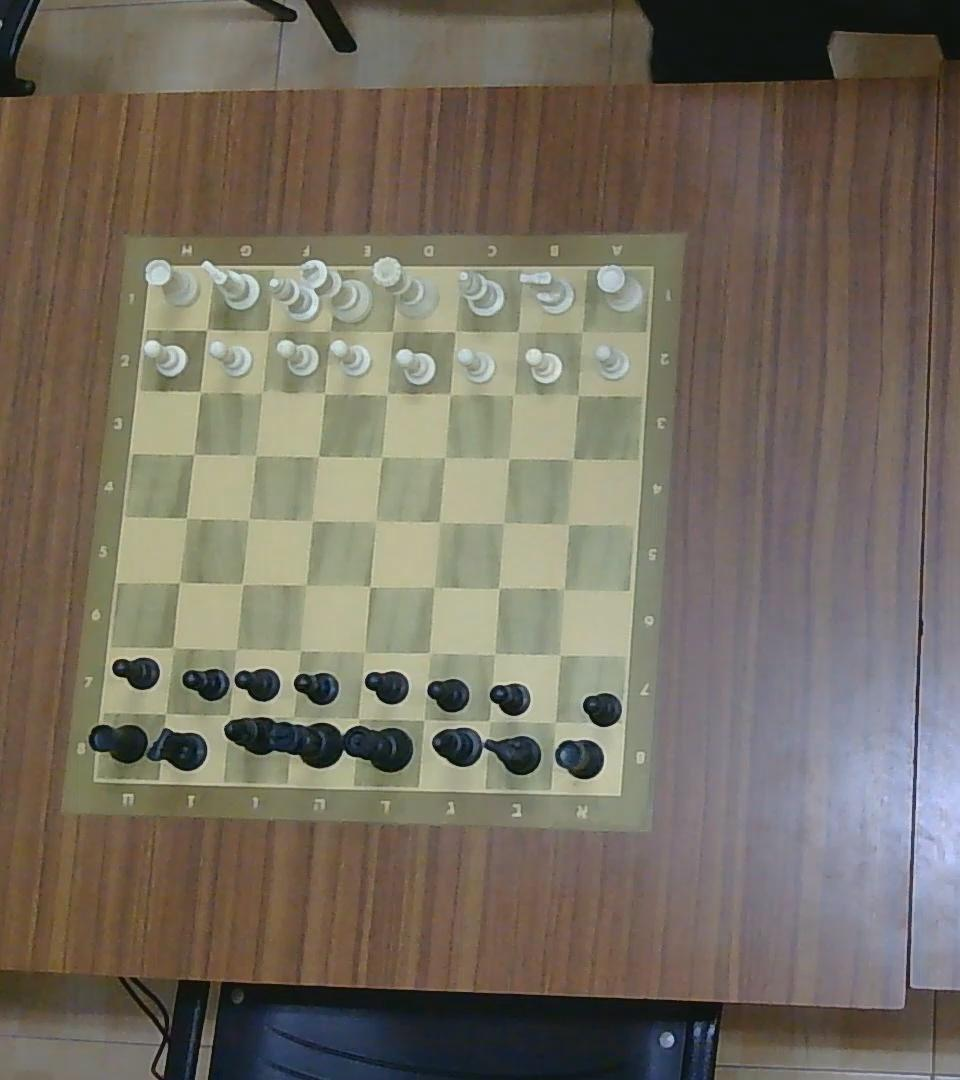xcorner: (344, 707, 370, 733), (216, 702, 241, 728), (154, 701, 178, 725), (279, 708, 304, 728), (543, 712, 568, 732), (319, 319, 341, 341), (478, 709, 500, 731), (413, 709, 434, 731), (162, 637, 184, 658), (288, 639, 311, 659), (365, 511, 386, 531), (169, 572, 189, 592), (246, 445, 266, 465), (483, 644, 503, 664), (225, 639, 245, 659), (183, 443, 202, 464), (440, 383, 459, 403), (423, 577, 442, 597), (429, 511, 448, 531), (555, 578, 573, 599), (372, 447, 391, 466), (445, 321, 464, 340), (296, 574, 315, 593), (177, 508, 196, 527), (196, 319, 215, 338), (550, 645, 569, 664), (420, 643, 439, 662), (382, 321, 401, 340), (354, 642, 374, 660), (315, 383, 333, 402), (377, 383, 395, 402), (361, 577, 379, 596), (259, 321, 277, 340), (559, 515, 578, 533), (510, 321, 528, 340), (495, 513, 513, 532), (573, 321, 591, 340), (504, 385, 522, 404), (233, 574, 251, 593), (570, 385, 588, 404), (489, 579, 507, 598), (435, 448, 453, 466), (500, 448, 518, 466), (190, 382, 208, 400), (240, 510, 258, 528), (253, 382, 271, 400), (309, 447, 326, 466), (303, 510, 320, 529), (564, 450, 582, 467)
